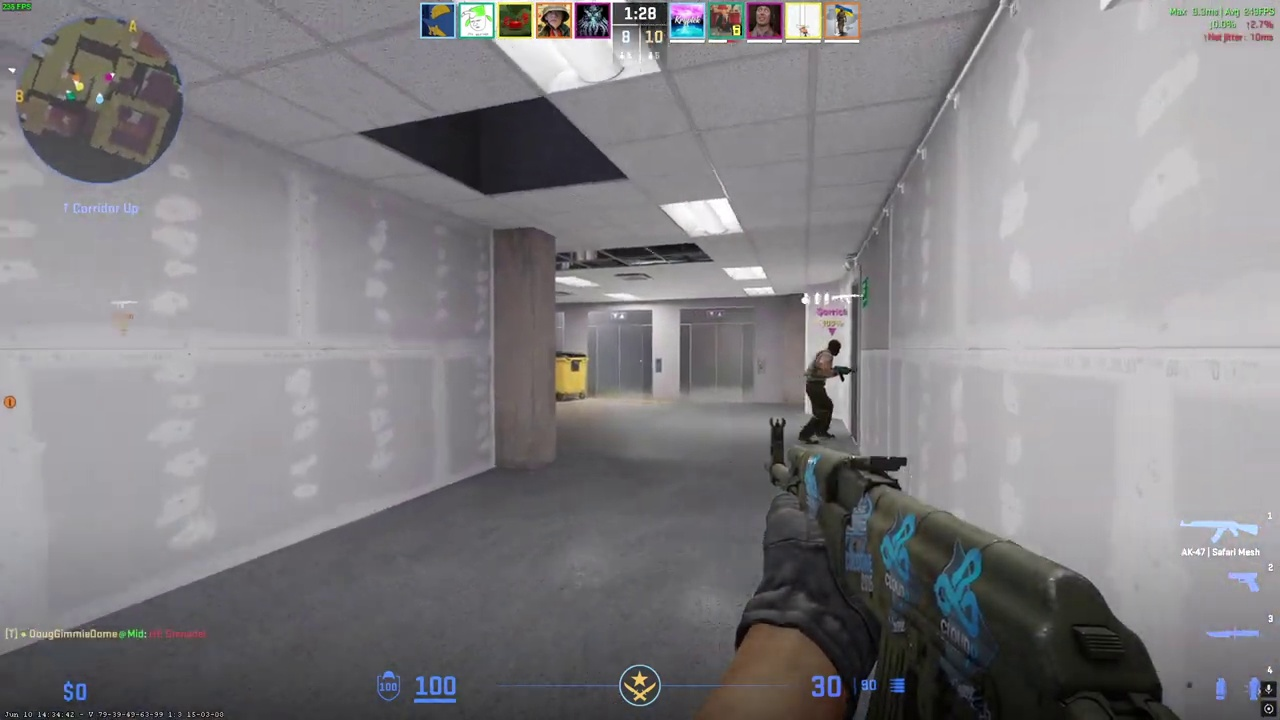Terrorist: (800, 338, 843, 445)
